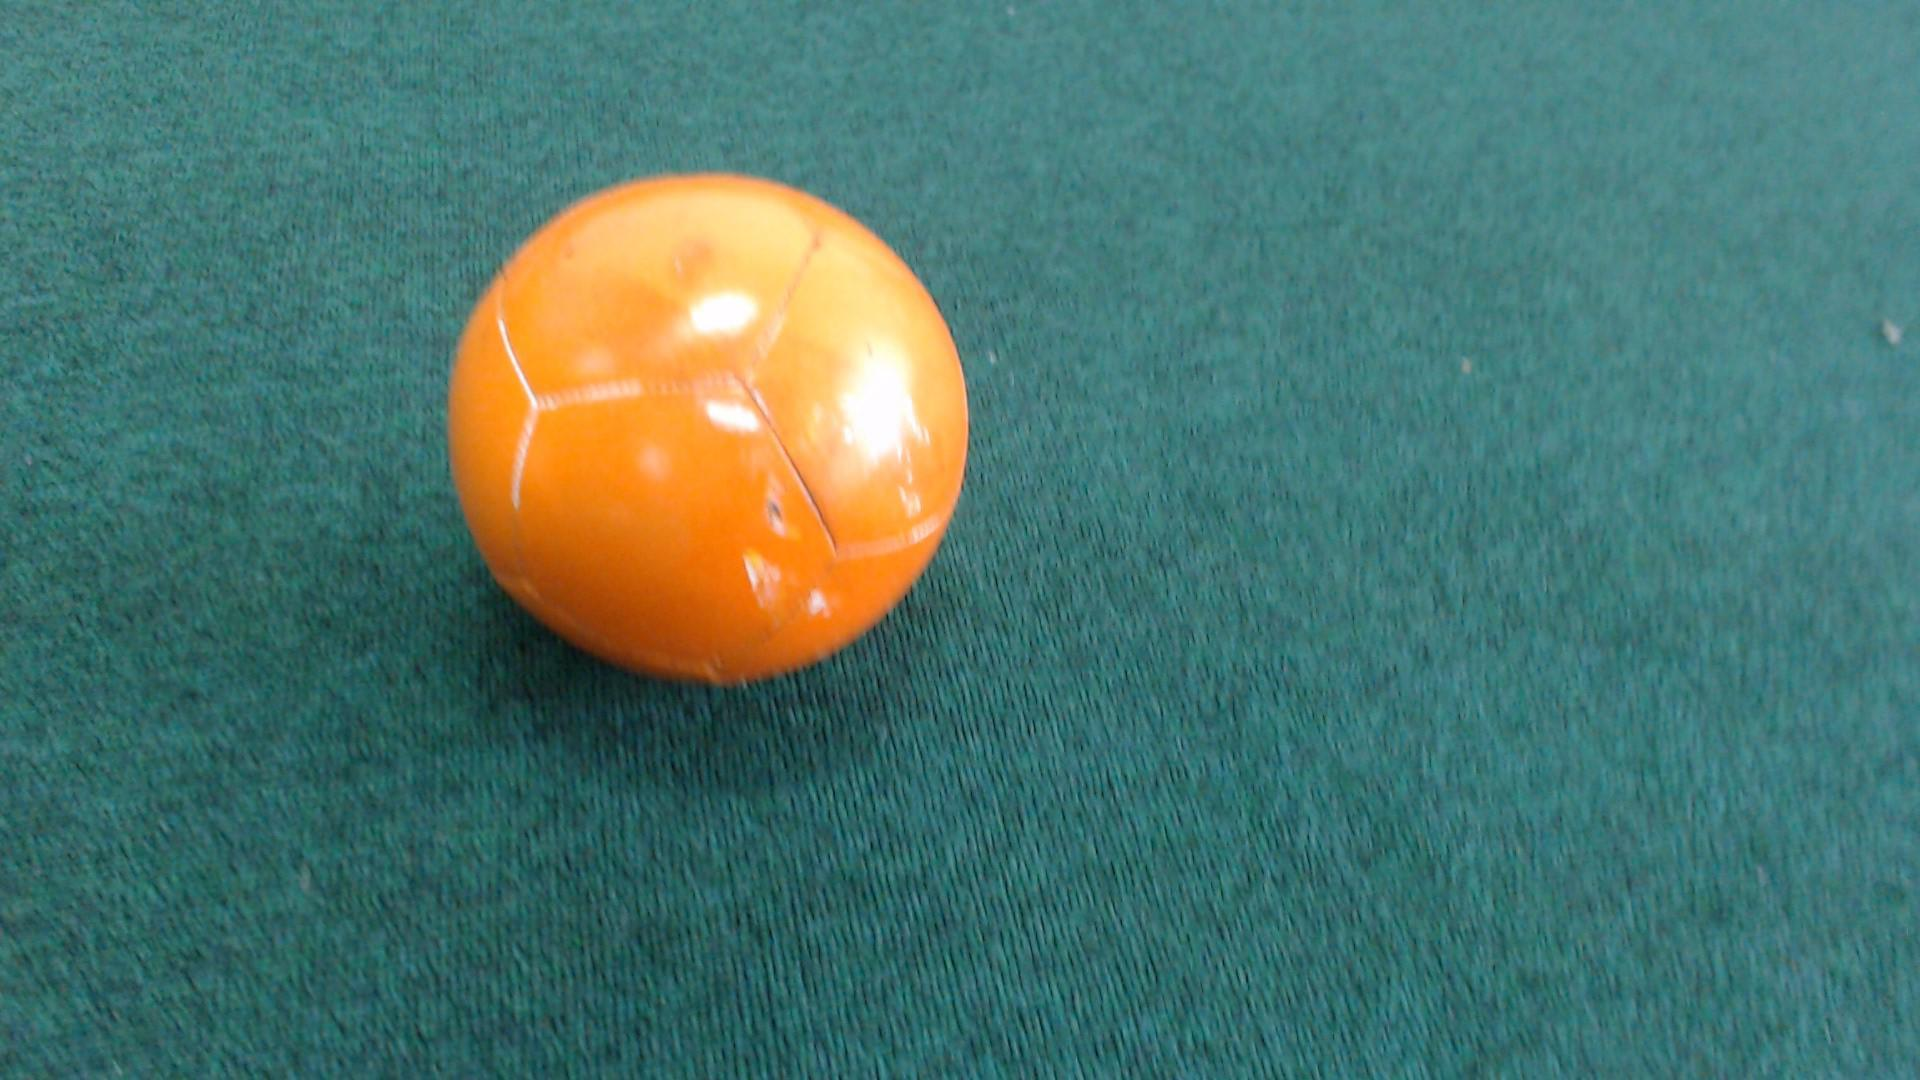bola: (422, 149, 1010, 705)
